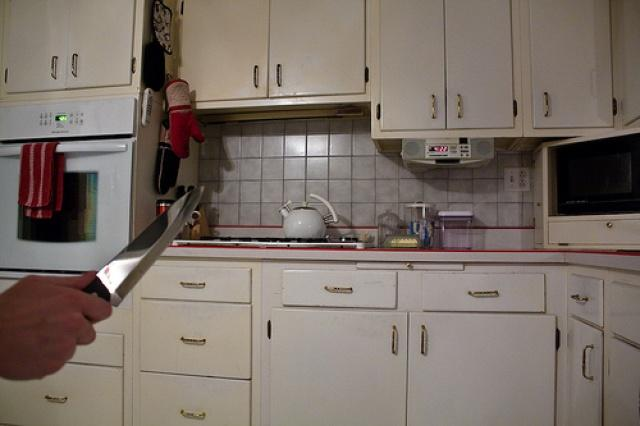Lemari: (371, 0, 621, 136), (172, 0, 373, 106), (0, 0, 143, 97)
